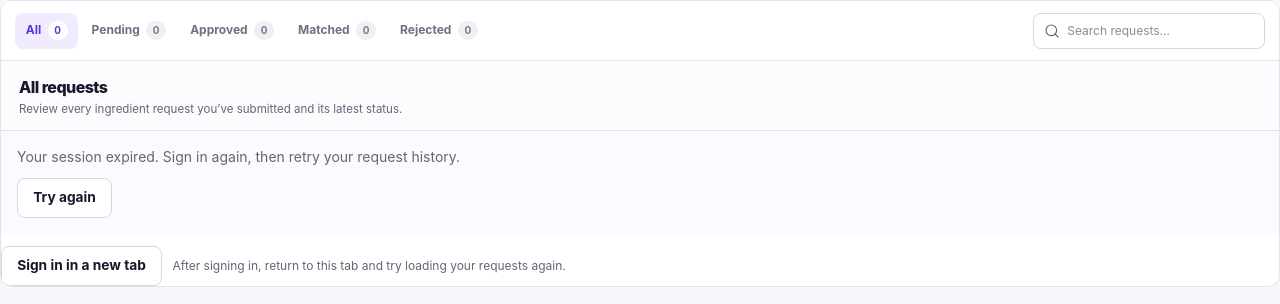
it: MemberIngredientRequestHistory › keeps list authentication recovery inside standalone history
Expected: the message shows "Your session expired. Sign in again, then retry your request history.", [17,148,460,166]
Expected: the text "After signing in, return to this tab and try loading your requests again." is shown, [173,258,566,275]
Click the button "Try again" at (65, 198), box [17,178,112,218]
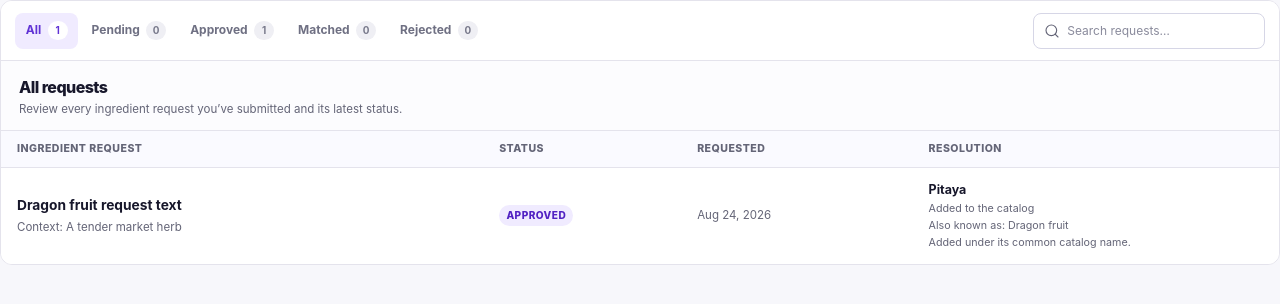
Now the element named "Ingredient request: Dragon fruit request text" is shown, box [1,168,1279,264]
Now the link "Sign in in a new tab" is gone
